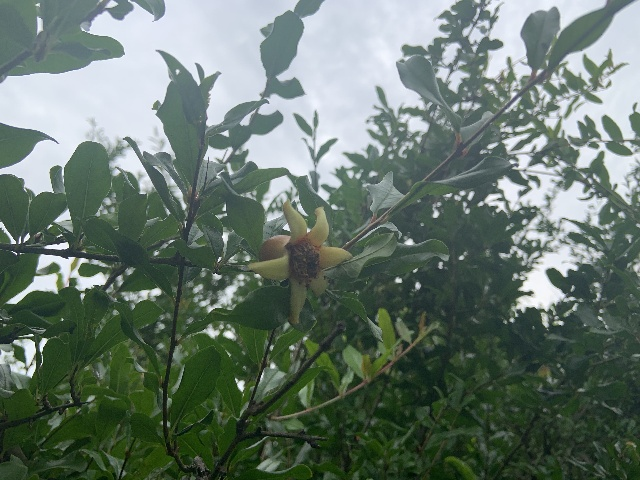early-fruit: (249, 198, 351, 324)
